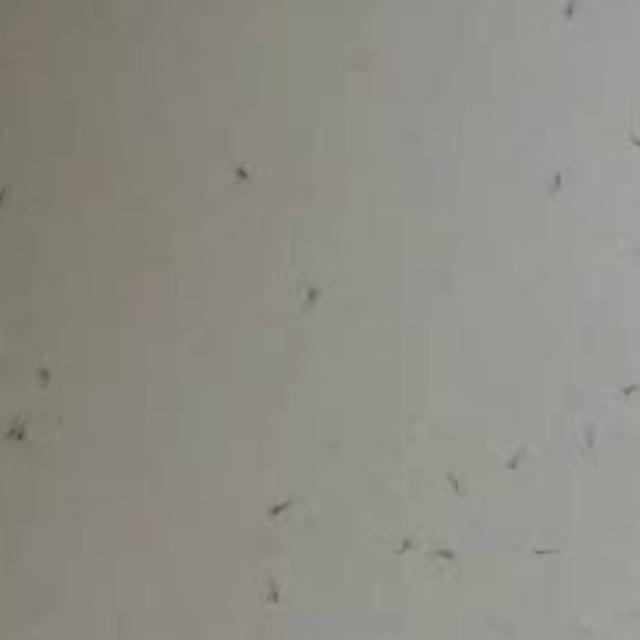shrimp-seed: (284, 276, 332, 330), (225, 145, 267, 203), (493, 432, 542, 478), (258, 492, 320, 527), (31, 360, 70, 412), (523, 536, 579, 569), (534, 158, 570, 208), (389, 521, 424, 572), (260, 563, 290, 621), (570, 415, 603, 456), (436, 464, 472, 501), (428, 540, 470, 570), (607, 369, 640, 407), (620, 116, 640, 172), (552, 0, 586, 31), (16, 420, 38, 460), (4, 415, 24, 452)
